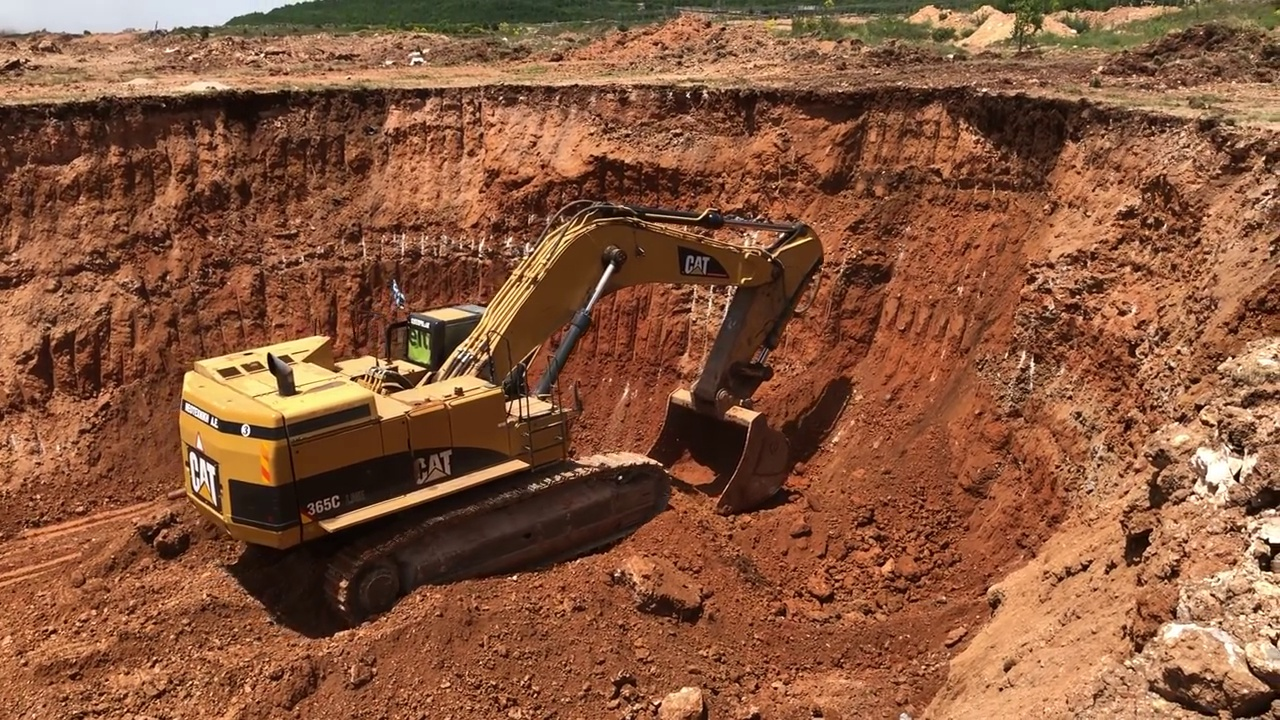excavator: (177, 199, 824, 618)
